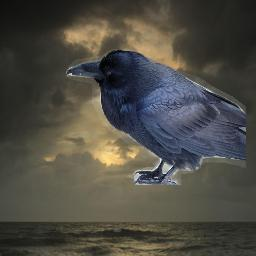Crow: (66, 49, 246, 185)
